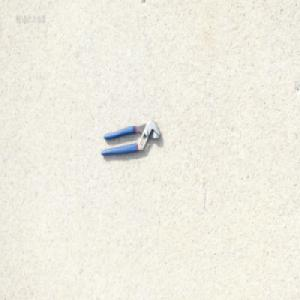Pliers: (100, 119, 161, 157)
